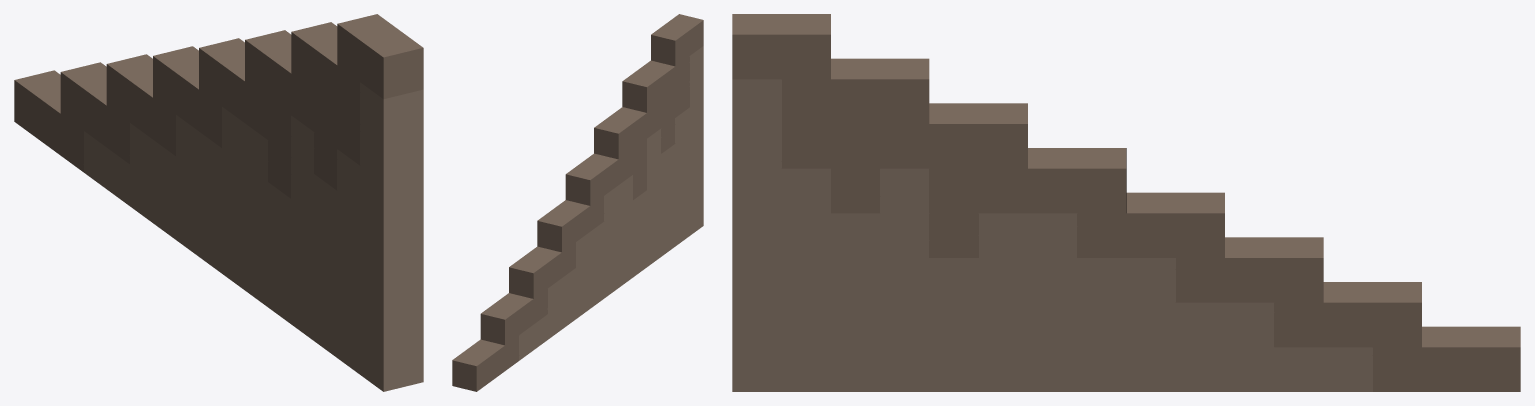
File: roof_01_middle_wall.fbx
The picture shows the model from 3 angles, left to right: view 1: azimuth 30°, elevation 25°; view 2: azimuth 150°, elevation 25°; view 3: azimuth 270°, elevation 25°; orthographic projection. The views are drawn at different scales.
Parts seen in each view (by area): view 1: roof_01_middle_wall_0; view 2: roof_01_middle_wall_0; view 3: roof_01_middle_wall_0.
Part boxes in pixels (x1,y1,x2,y2): roof_01_middle_wall_0: (14,14,423,391); roof_01_middle_wall_0: (452,14,703,391); roof_01_middle_wall_0: (732,14,1520,391).
Bounding box in the file's own units: 100 × 1600 × 800.
